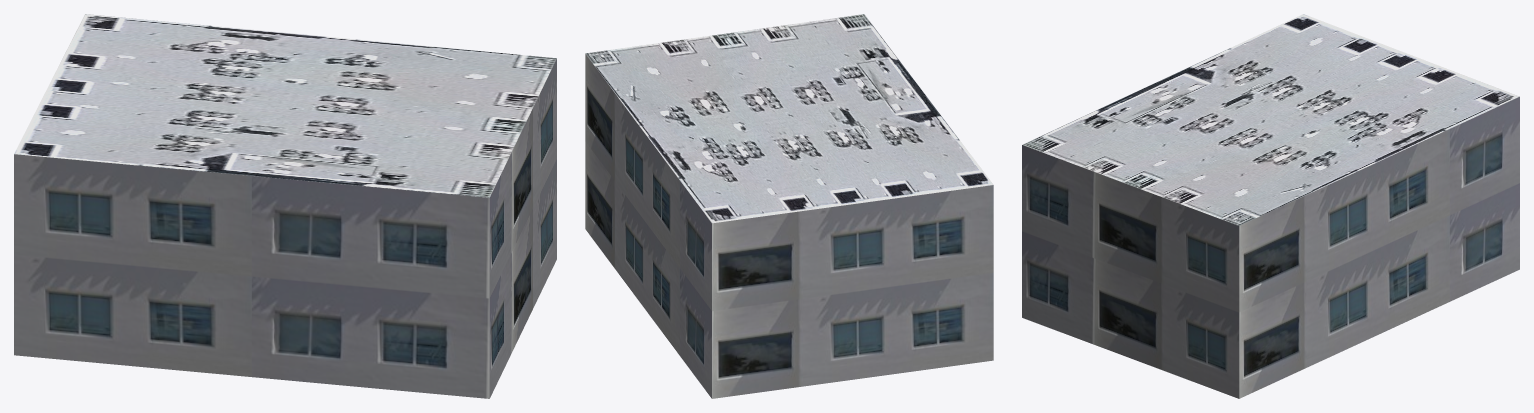
File: ResTex__1563.fbx
3 renders of one model, left to right at view 1: azimuth 30°, elevation 25°; view 2: azimuth 150°, elevation 25°; view 3: azimuth 270°, elevation 25°, orthographic. The views are drawn at different scales.
Visible parts, largest first — view 1: CityEngineMaterial_10_m, CityEngineMaterial_4_m; view 2: CityEngineMaterial_10_m, CityEngineMaterial_4_m; view 3: CityEngineMaterial_10_m, CityEngineMaterial_4_m.
Part boxes in pixels (x1,y1,x2,y2): CityEngineMaterial_10_m: (14, 59, 556, 398); CityEngineMaterial_4_m: (14, 14, 556, 197); CityEngineMaterial_10_m: (585, 54, 993, 398); CityEngineMaterial_4_m: (585, 14, 993, 223); CityEngineMaterial_10_m: (1022, 96, 1519, 398); CityEngineMaterial_4_m: (1022, 14, 1519, 225).
Size of the model in its own units: 15.78 by 6 by 15.65.
2 materials, 2 textured.
